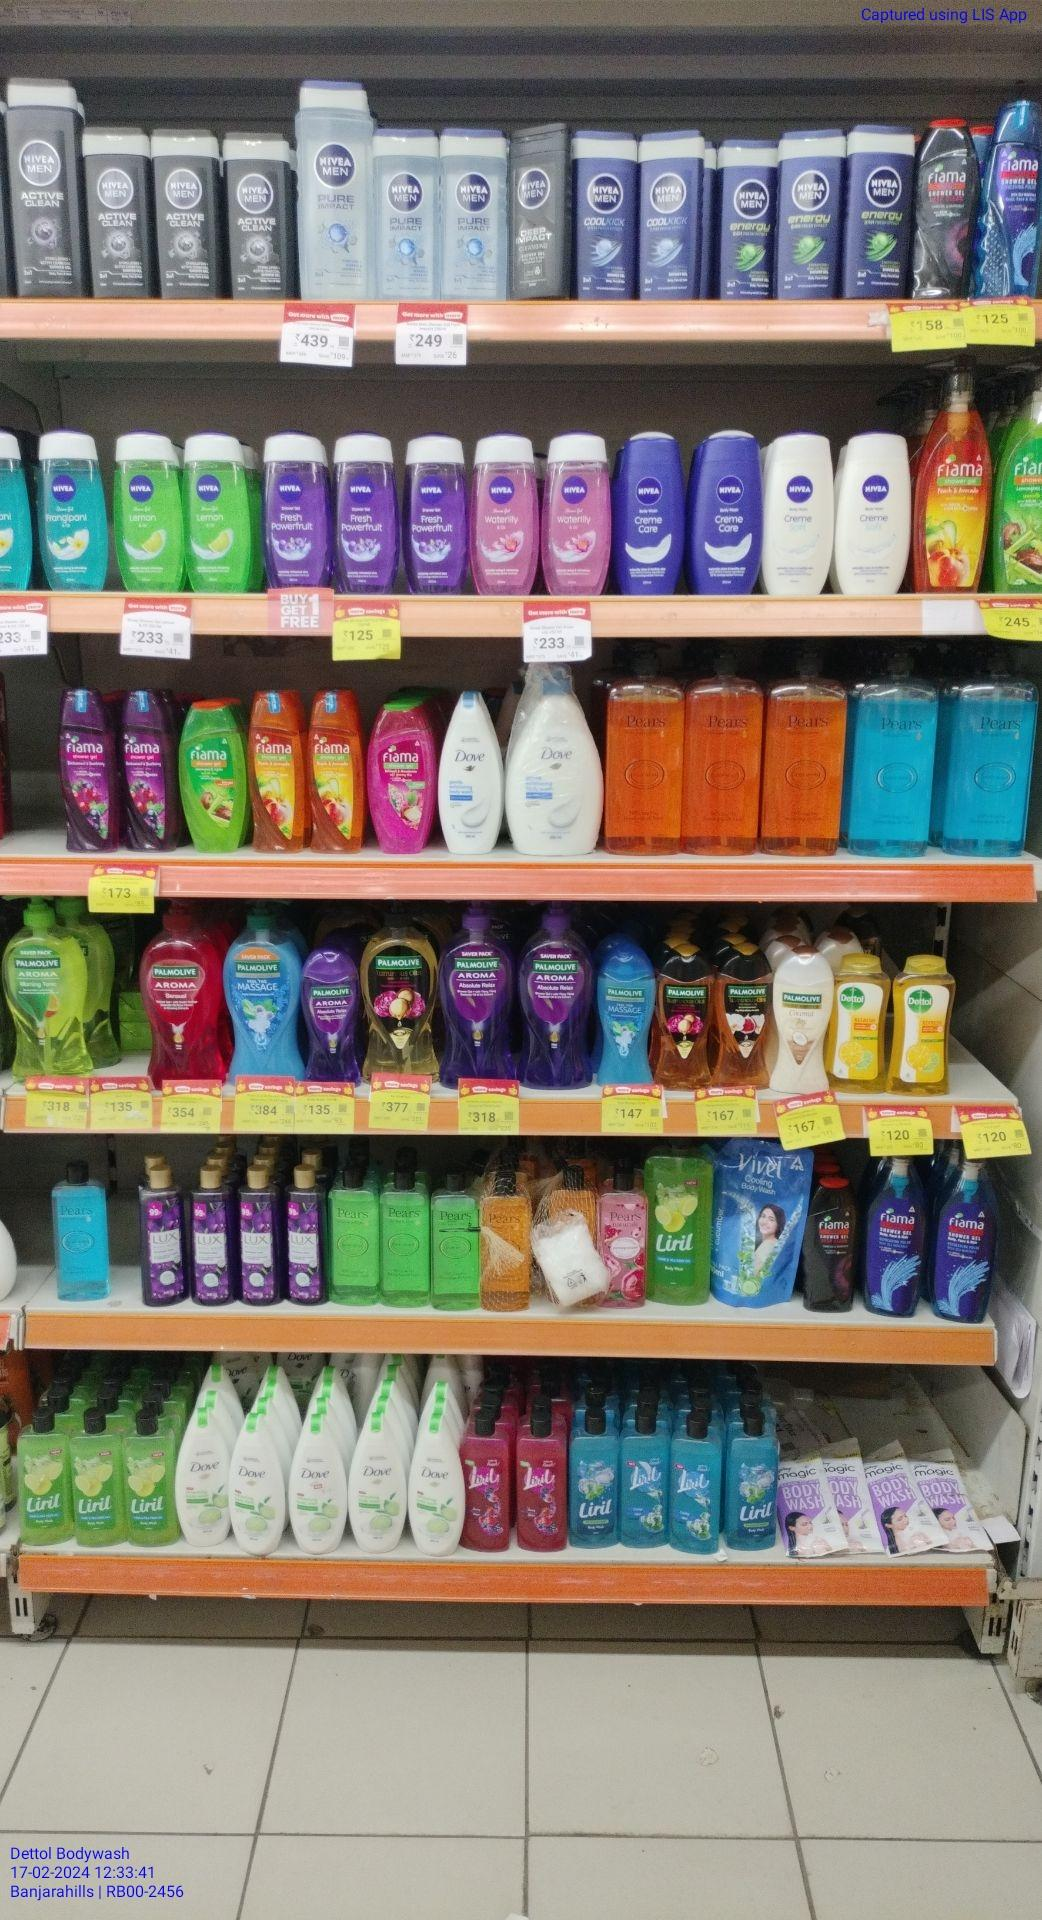Dettol_Bodywash_Refresh: (898, 958, 955, 1098), (839, 954, 887, 1093)
Dove_Gentle_Exfoliating_Body_Wash_250ML: (438, 693, 499, 855)
Dove_Refreshing_Body_Wash_250ML: (290, 1417, 344, 1556), (350, 1417, 406, 1551), (409, 1422, 463, 1556), (177, 1413, 230, 1548), (234, 1412, 281, 1553)
Fiama_Shower_Gel_Lemongrass_and_Jojoba_250ML: (178, 704, 244, 849)
Fiama_Shower_Gel_Patchouli_and_Macadamia_250ML: (366, 702, 432, 855)
Liril_Cooling_Mint_Body_Wash_250ML: (47, 1165, 113, 1299), (726, 1412, 779, 1548), (669, 1413, 719, 1551), (570, 1411, 619, 1547), (619, 1415, 666, 1545)
Liril_Lime_and_Tea_Tree_Oil_Body_Wash_250ML: (71, 1413, 122, 1548), (123, 1410, 175, 1544), (18, 1410, 68, 1544)
Lux_Black_Orchid_Scent_and_Juniper_Oil_Body_Wash_245ML: (139, 1165, 185, 1307), (190, 1171, 231, 1304), (286, 1165, 325, 1304), (241, 1167, 278, 1307)
Nivea_Creme_Care_Body_Wash_250ML: (697, 432, 761, 590), (621, 432, 683, 593)
Nivea_Creme_Soft_Body_Wash_250ML: (841, 434, 910, 593), (769, 431, 832, 593)
Nivea_Shower_Gel_Frangipani_and_Oil_250ML: (35, 430, 107, 591)
Nivea_Shower_Gel_Fresh_Powerfruit_250ML: (264, 435, 331, 586), (334, 434, 397, 590), (408, 436, 470, 590)
Nivea_Shower_Gel_Lemon_and_Oil_250ML: (114, 435, 180, 594), (184, 434, 245, 596)
Nivea_Shower_Gel_Waterlily_and_Oil_250ML: (476, 431, 539, 599), (544, 435, 610, 594)
Palmolive_Aroma_Moments_Feel_The_Massage_Shower_Gel_250ML: (595, 948, 649, 1089)
Palmolive_Aroma_Relax_250ML: (302, 945, 362, 1085)
Palmolive_Coconut_Joy_Exfoliating_Body_Wash_250ML: (776, 954, 833, 1099)
Palmolive_Luminous_Oils_Invigorating_Macadamia_Oil_With_Peony_250ML: (658, 950, 711, 1089)
Palmolive_Luminous_Oils_With_White_Orchid_Shower_Gel_250ML: (717, 949, 770, 1091)
Pears_Pure_Glycerin_and_Lemon_Flower_Extracts_Body_Wash_250ML: (327, 1168, 380, 1307), (382, 1165, 427, 1308), (432, 1174, 479, 1311)
